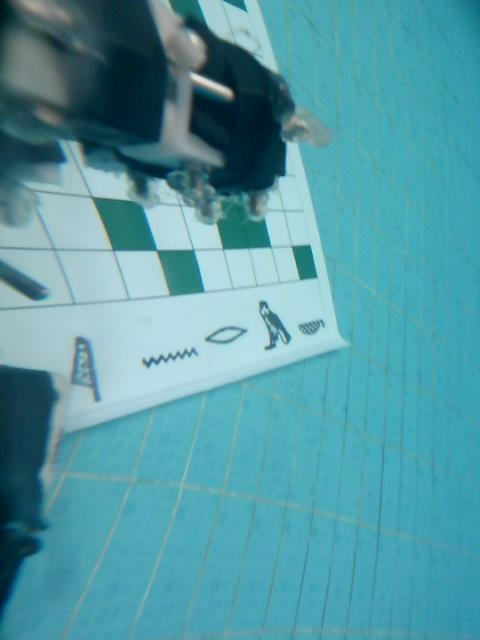Basket: (295, 314, 332, 343)
Mouth: (201, 324, 251, 352)
Owl: (255, 298, 297, 360)
Reed: (61, 327, 108, 409)
Water: (135, 344, 203, 375)
